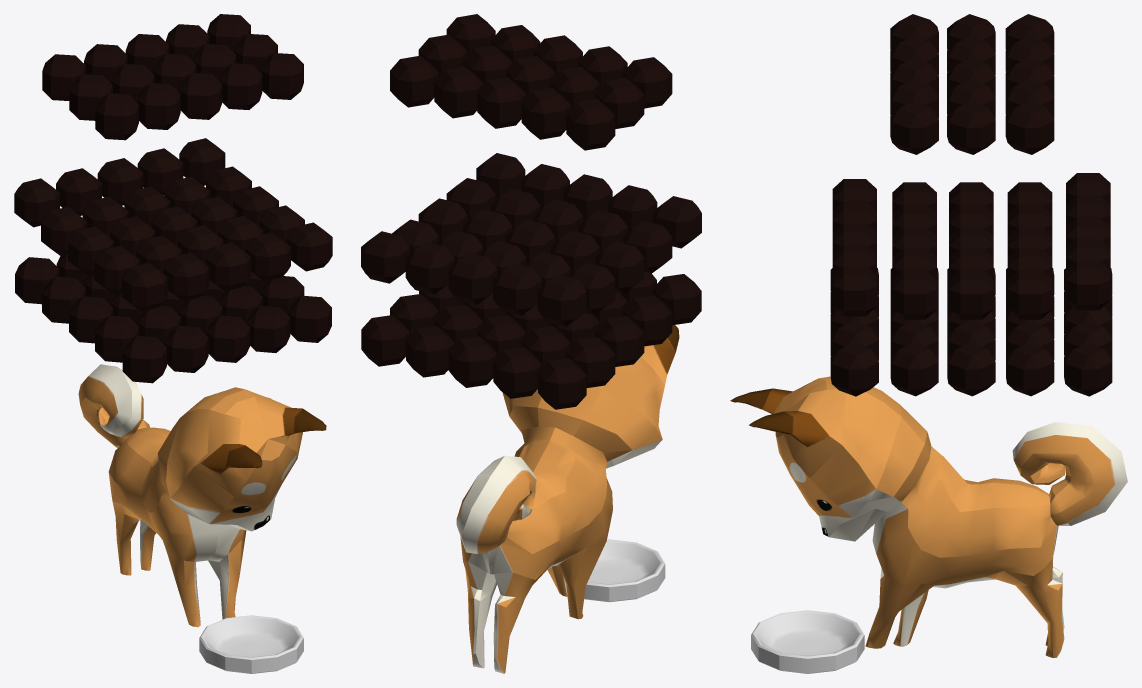
Rendered from emptyBowl_frame19.obj.
3 views of the same model, side by side, from view 1: azimuth 30°, elevation 25°; view 2: azimuth 150°, elevation 25°; view 3: azimuth 270°, elevation 25° (orthographic). The views are drawn at different scales.
Parts seen in each view (by area): view 1: newRigging1:BodzL1, FressnapfLeer:pCylinder1, FressnapfFull:pCube46, FressnapfFull:pCube57, FressnapfFull:pCube45, FressnapfFull:pCube48, FressnapfFull:pCube43, FressnapfFull:pCube36, FressnapfFull:pCube42, FressnapfFull:pCube49, FressnapfFull:pCube50, FressnapfFull:pCube59 (+44 smaller); view 2: newRigging1:BodzL1, FressnapfLeer:pCylinder1, FressnapfFull:pCube39, FressnapfFull:pCube51, FressnapfFull:pCube64, FressnapfFull:pCube53, FressnapfFull:pCube37, FressnapfFull:pCube54, FressnapfFull:pCube55, FressnapfFull:pCube38, FressnapfFull:pCube41, FressnapfFull:pCube65 (+48 smaller); view 3: newRigging1:BodzL1, FressnapfLeer:pCylinder1, FressnapfFull:pCube41, FressnapfFull:pCube10, FressnapfFull:pCube55, FressnapfFull:pCube4, FressnapfFull:pCube15, FressnapfFull:pCube31, FressnapfFull:pCube50, FressnapfFull:pCube20, FressnapfFull:pCube36, FressnapfFull:pCube25 (+42 smaller).
Part boxes in pixels (x1,y1,x2,y2): newRigging1:BodzL1: (78, 364, 326, 627); FressnapfLeer:pCylinder1: (199, 615, 303, 673); FressnapfFull:pCube46: (122, 336, 166, 383); FressnapfFull:pCube57: (121, 262, 167, 311); FressnapfFull:pCube45: (95, 93, 138, 140); FressnapfFull:pCube48: (206, 315, 250, 362); FressnapfFull:pCube43: (178, 73, 222, 119); FressnapfFull:pCube36: (260, 53, 303, 99); FressnapfFull:pCube42: (137, 83, 180, 129); FressnapfFull:pCube49: (164, 325, 208, 372); FressnapfFull:pCube50: (287, 295, 331, 342); FressnapfFull:pCube59: (163, 252, 209, 301); newRigging1:BodzL1: (456, 325, 679, 673); FressnapfLeer:pCylinder1: (584, 539, 665, 602); FressnapfFull:pCube39: (566, 98, 615, 150); FressnapfFull:pCube51: (538, 358, 586, 409); FressnapfFull:pCube64: (537, 274, 586, 326); FressnapfFull:pCube53: (448, 336, 497, 387); FressnapfFull:pCube37: (521, 88, 570, 139); FressnapfFull:pCube54: (493, 347, 541, 398); FressnapfFull:pCube55: (361, 315, 409, 366); FressnapfFull:pCube38: (477, 77, 526, 128); FressnapfFull:pCube41: (390, 55, 438, 107); FressnapfFull:pCube65: (361, 231, 410, 283); newRigging1:BodzL1: (730, 376, 1127, 657); FressnapfLeer:pCylinder1: (751, 610, 864, 673); FressnapfFull:pCube41: (1005, 101, 1054, 154); FressnapfFull:pCube10: (890, 343, 938, 396); FressnapfFull:pCube55: (1064, 343, 1112, 396); FressnapfFull:pCube4: (947, 342, 995, 396); FressnapfFull:pCube15: (1006, 343, 1054, 396); FressnapfFull:pCube31: (947, 101, 995, 154); FressnapfFull:pCube50: (830, 343, 878, 396); FressnapfFull:pCube20: (1007, 269, 1052, 319); FressnapfFull:pCube36: (890, 101, 938, 154); FressnapfFull:pCube25: (892, 269, 936, 319).
Bounding box in the file's own units: 5.73 × 14.49 × 8.92.
3 materials, 2 textured.
